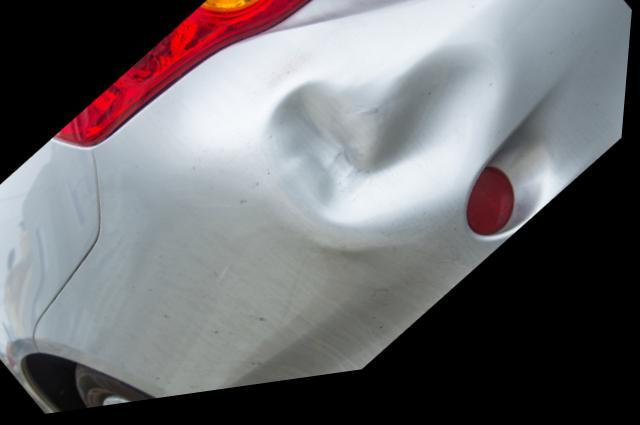dent: (273, 60, 499, 235)
